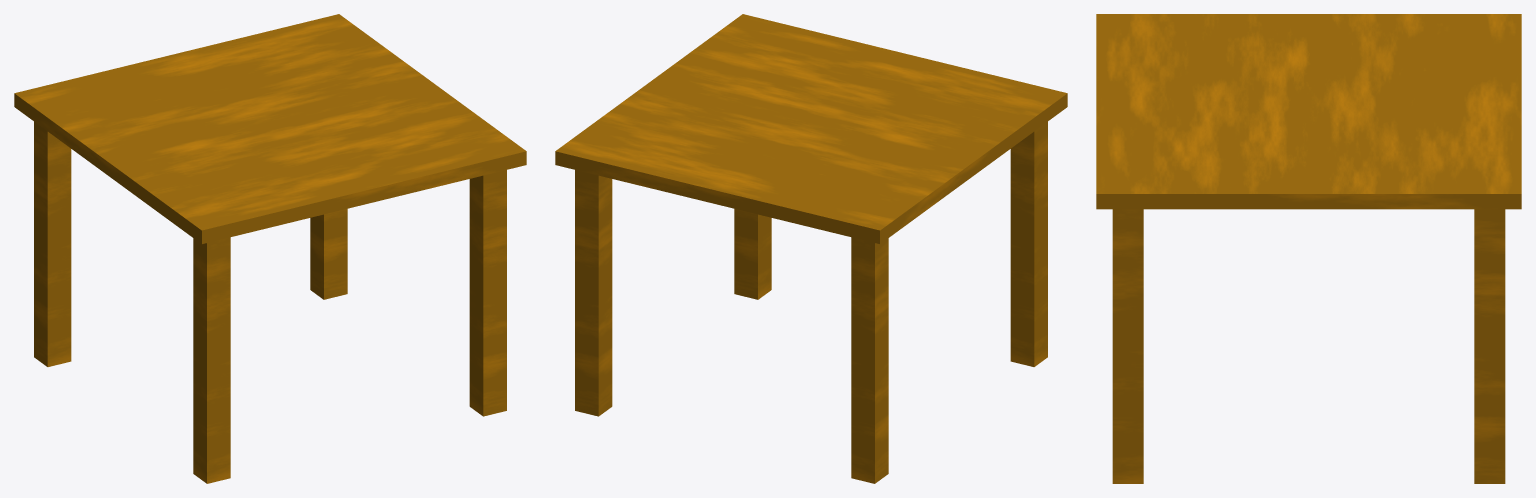
The model's file is table.fbx.
3 views of the same model, side by side, from view 1: azimuth 30°, elevation 25°; view 2: azimuth 150°, elevation 25°; view 3: azimuth 270°, elevation 25° (orthographic). The views are drawn at different scales.
Parts seen in each view (by area): view 1: Table; view 2: Table; view 3: Table.
Boxes of the visible parts, x1,y1,x2,y2 form: Table: (14, 14, 526, 483); Table: (555, 14, 1067, 483); Table: (1096, 14, 1521, 483).
Size of the model in its own units: 100 by 77 by 100.
